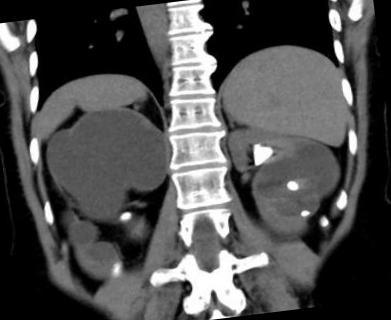Tas_Var: (284, 174, 301, 196), (116, 207, 133, 224), (296, 205, 312, 222)
